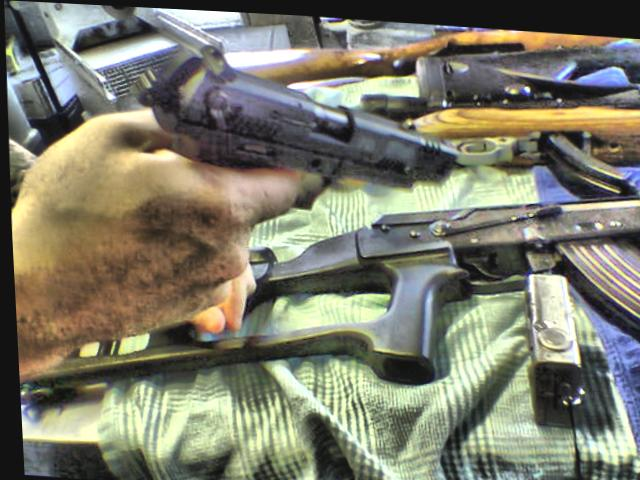pistol: (117, 36, 461, 208)
